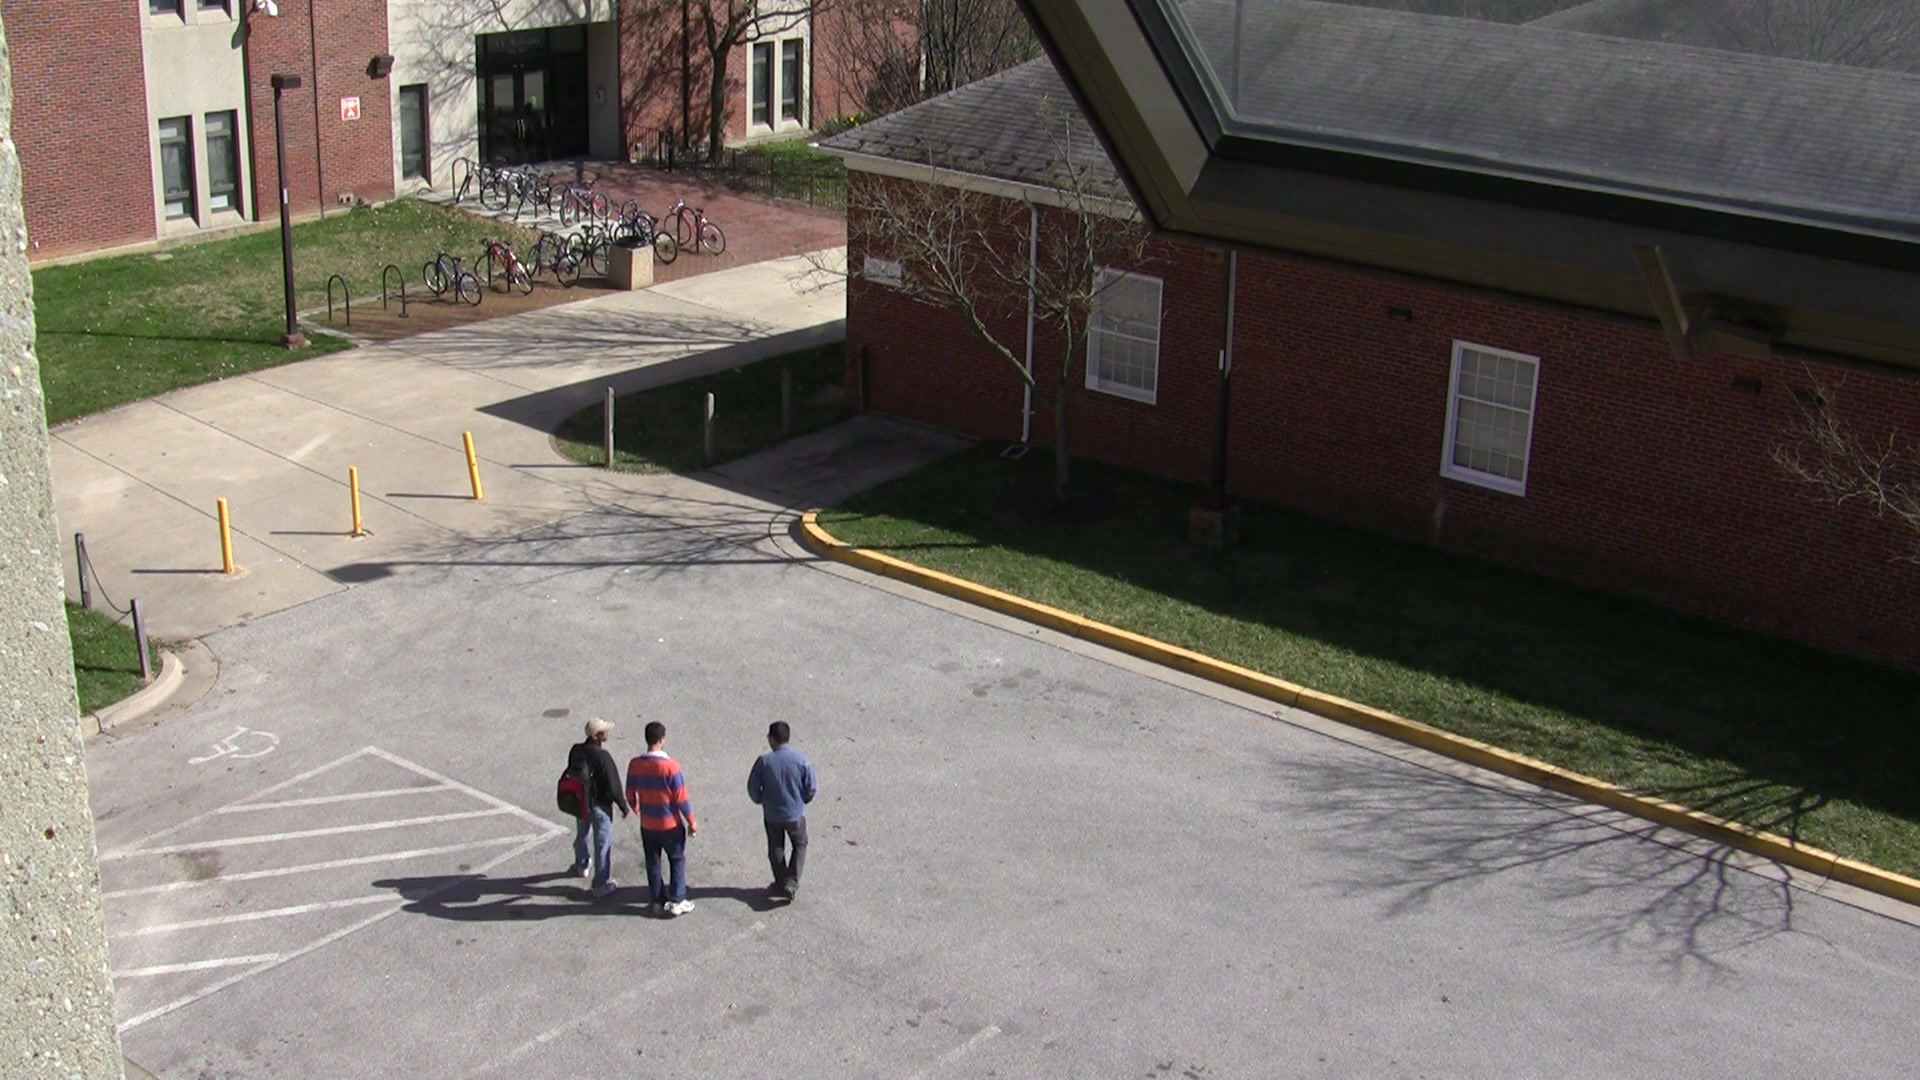person: (617, 716, 713, 940), (544, 703, 652, 903), (729, 716, 831, 913)
